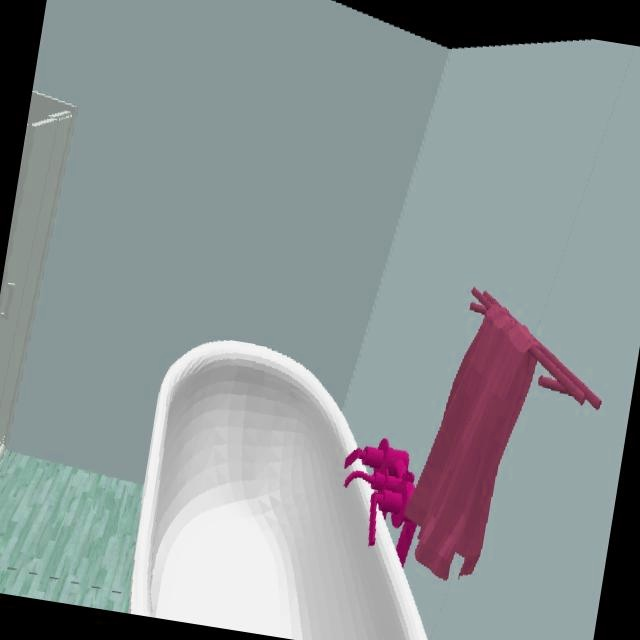bathtube: (129, 340, 427, 640)
shower: (0, 91, 77, 465)
